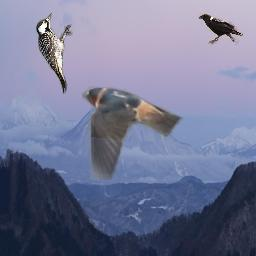Crow: (198, 13, 243, 45)
Swallow: (82, 83, 184, 180)
Woodpecker: (36, 13, 73, 94)
